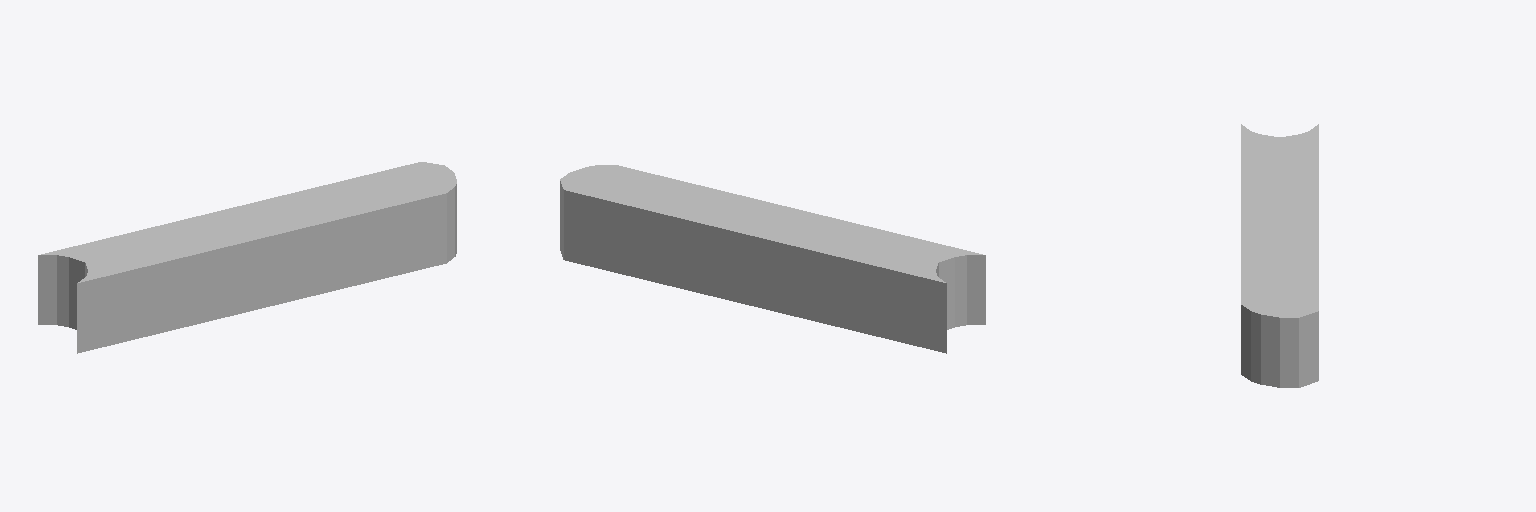
Rendered from Ball Guide_Lower.obj.
3 renders of one model, left to right at view 1: azimuth 30°, elevation 25°; view 2: azimuth 150°, elevation 25°; view 3: azimuth 270°, elevation 25°, orthographic.
Visible parts, largest first — view 1: Cube; view 2: Cube; view 3: Cube.
Boxes of the visible parts, x1,y1,x2,y2 form: Cube: [38, 162, 456, 353]; Cube: [560, 165, 985, 353]; Cube: [1241, 124, 1318, 387].
Bounding box in the file's own units: 5.91 × 1 × 1.